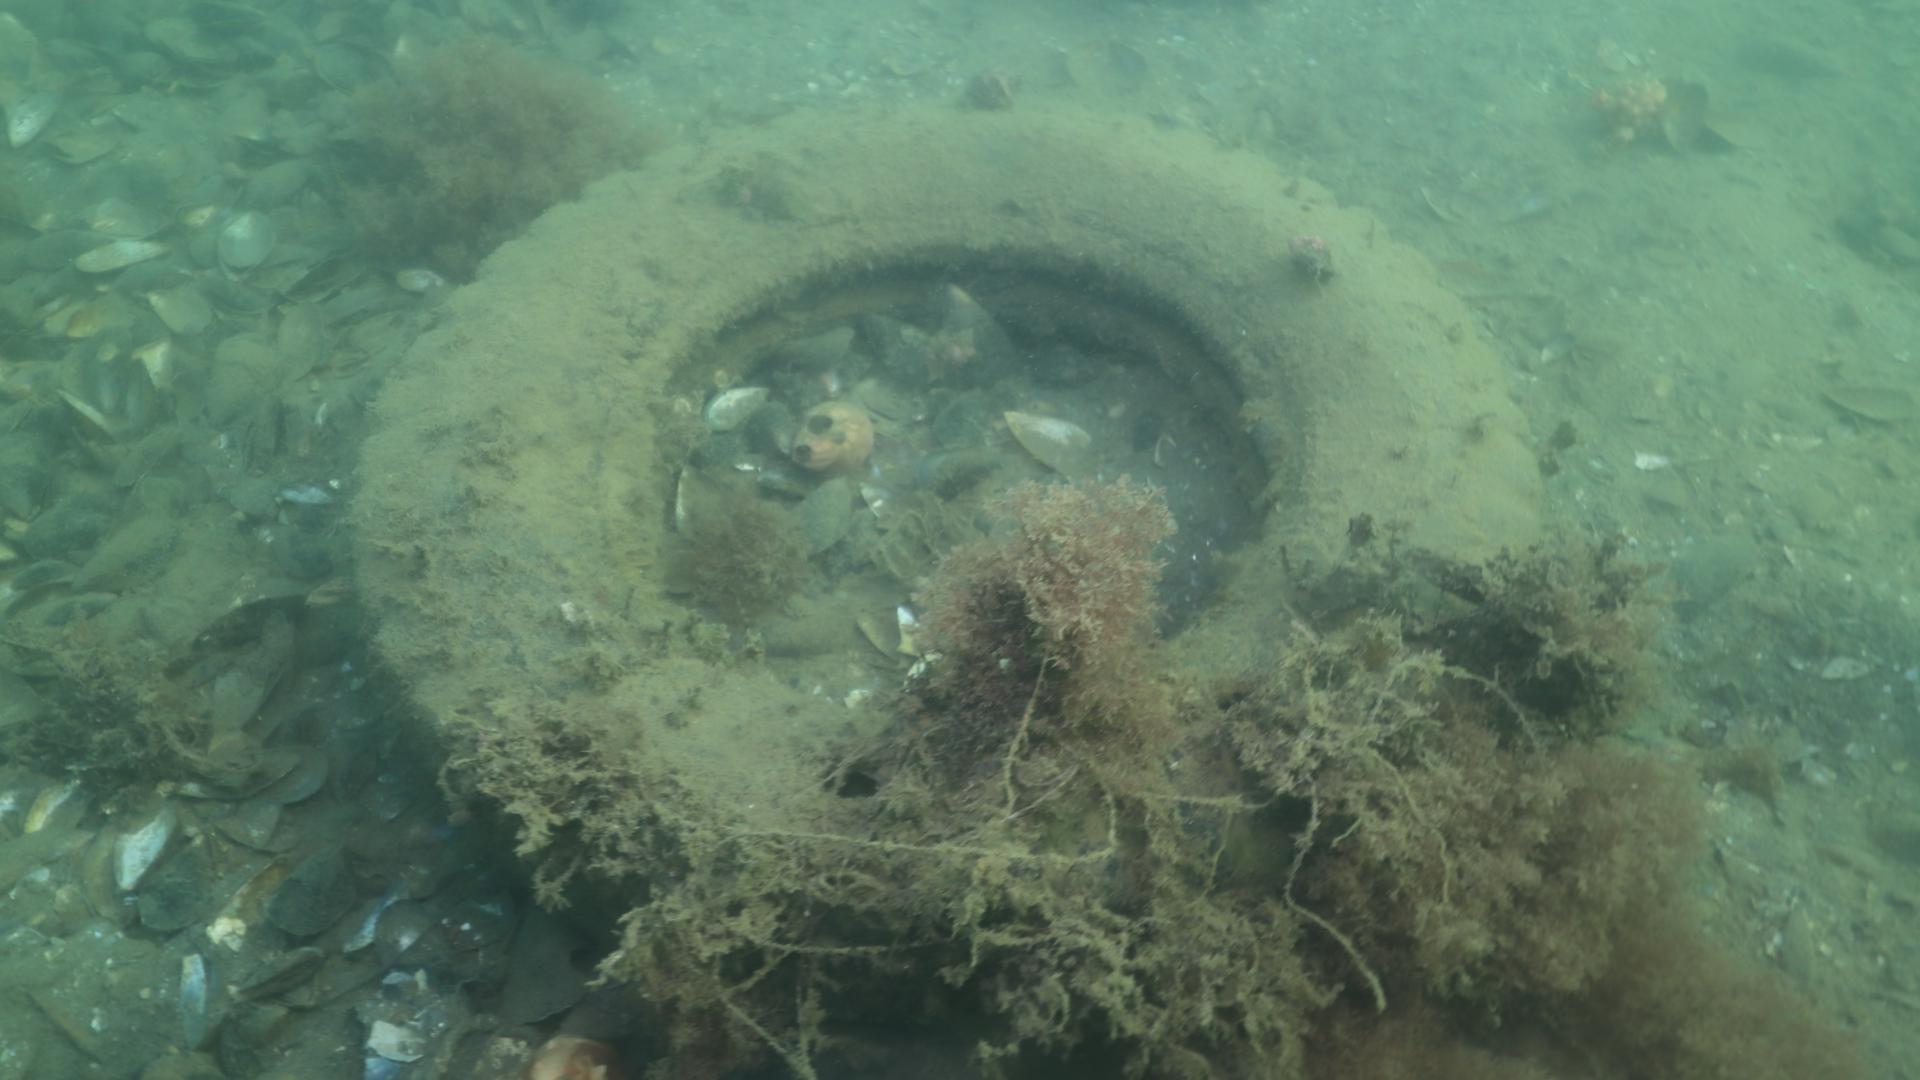tire: (348, 98, 1544, 1058)
